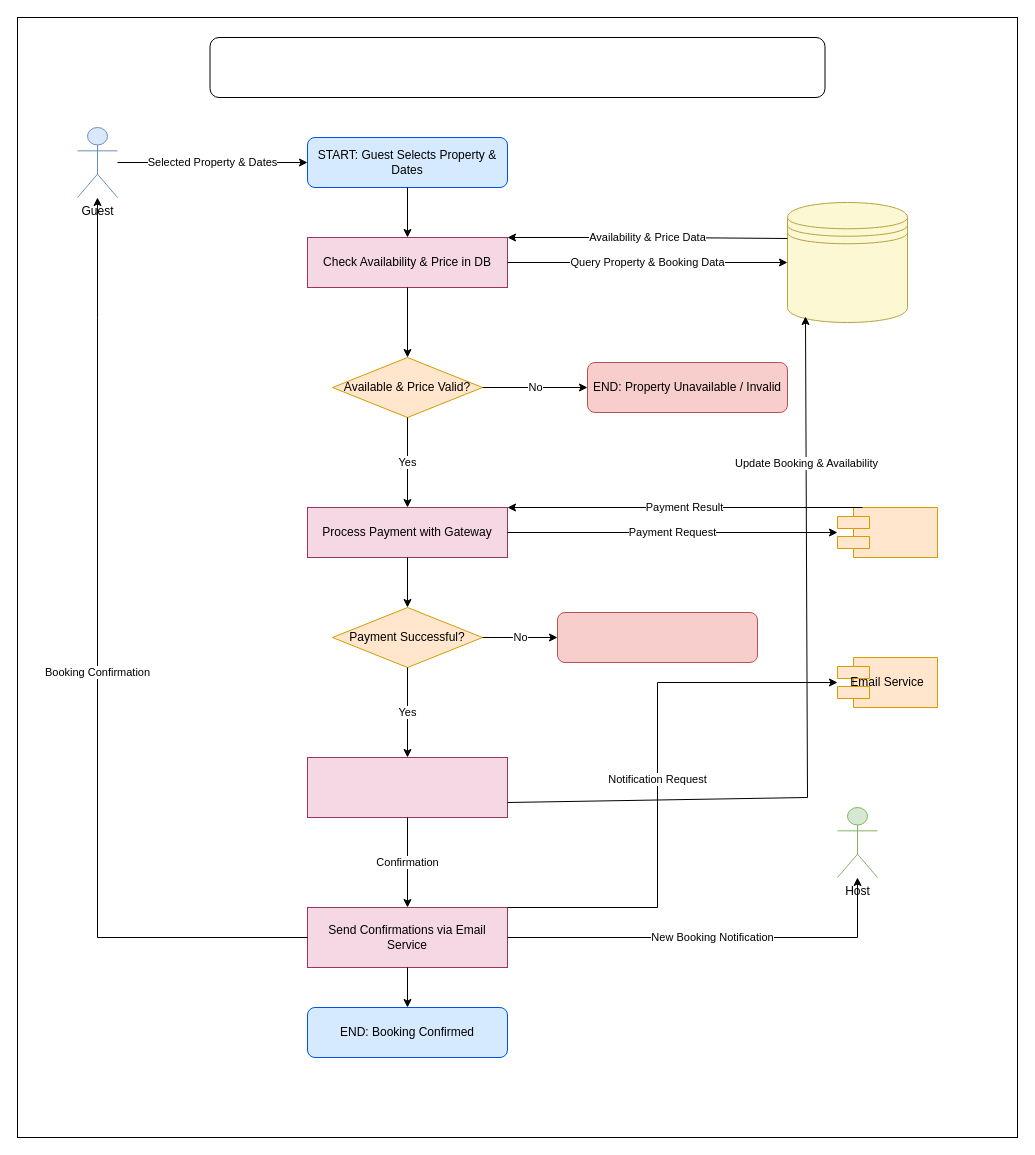
Image size: 1035x1155. Some labels were removed from this diagram. Each missing label, with the centre of its shape:
"Central Database" goes at (847,262).
"END: Payment Failed" goes at (657,637).
"Payment Gateway" goes at (887,532).
"Update Booking & Availability in DB" goes at (407,787).
"Workflow and processes for property booking by Guest" goes at (517,67).
